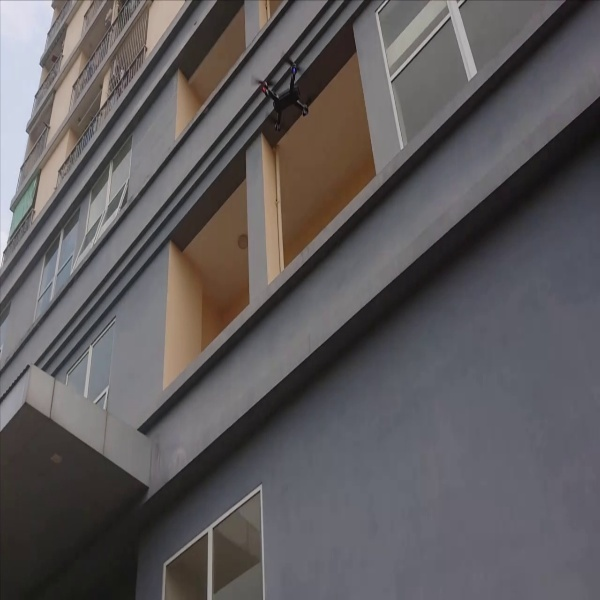drone: (248, 53, 313, 134)
